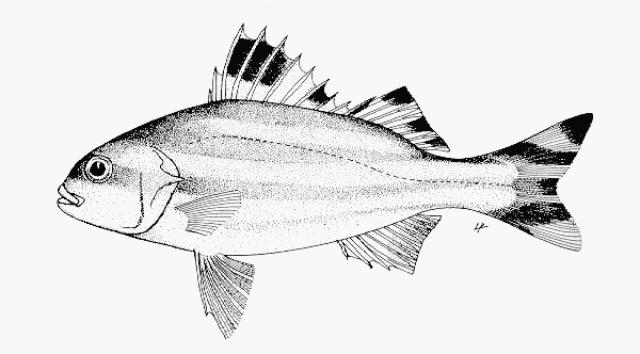Mulut: (46, 172, 90, 222)
Sirip Anal: (336, 212, 439, 278)
Sirip Dada: (171, 184, 251, 240)
Sirip Ekor: (491, 103, 599, 262)
Sirip Perut: (188, 246, 258, 345)
Sirip Punggung: (193, 21, 454, 163)
